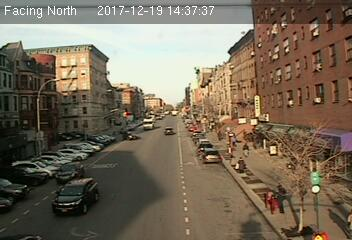car: (50, 178, 99, 215), (55, 162, 85, 185), (200, 149, 220, 163), (163, 126, 174, 135)
